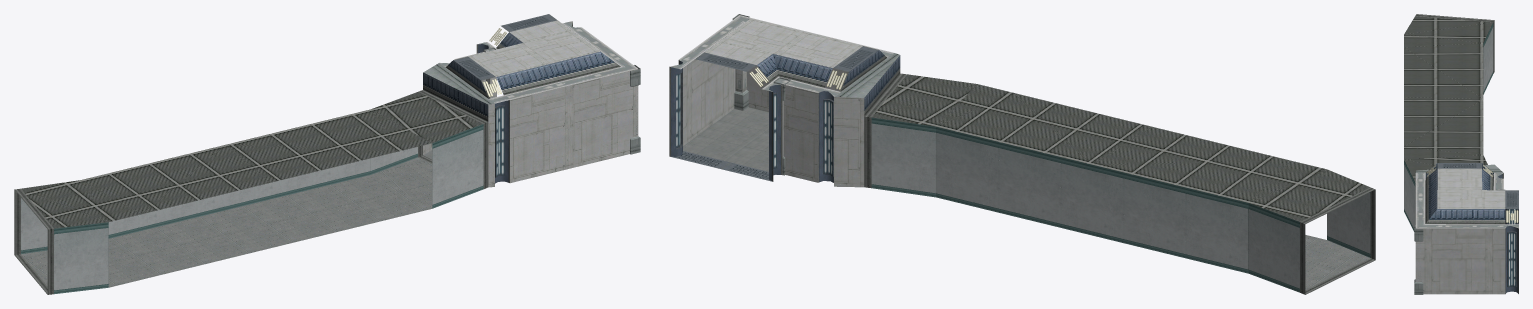
The model's file is mun_tato_cloning_s01_r1_foyer_mesh_r1.fbx.
3 renders of one model, left to right at view 1: azimuth 30°, elevation 25°; view 2: azimuth 150°, elevation 25°; view 3: azimuth 270°, elevation 25°, orthographic. The views are drawn at different scales.
Parts seen in each view (by area): view 1: mesh_node; view 2: mesh_node; view 3: mesh_node.
Part boxes in pixels (box(x1,y1,x2,y2)): mesh_node: box(14, 14, 640, 294); mesh_node: box(669, 14, 1375, 294); mesh_node: box(1404, 14, 1518, 294).
Bounding box in the file's own units: 27.57 × 4.28 × 5.86.
